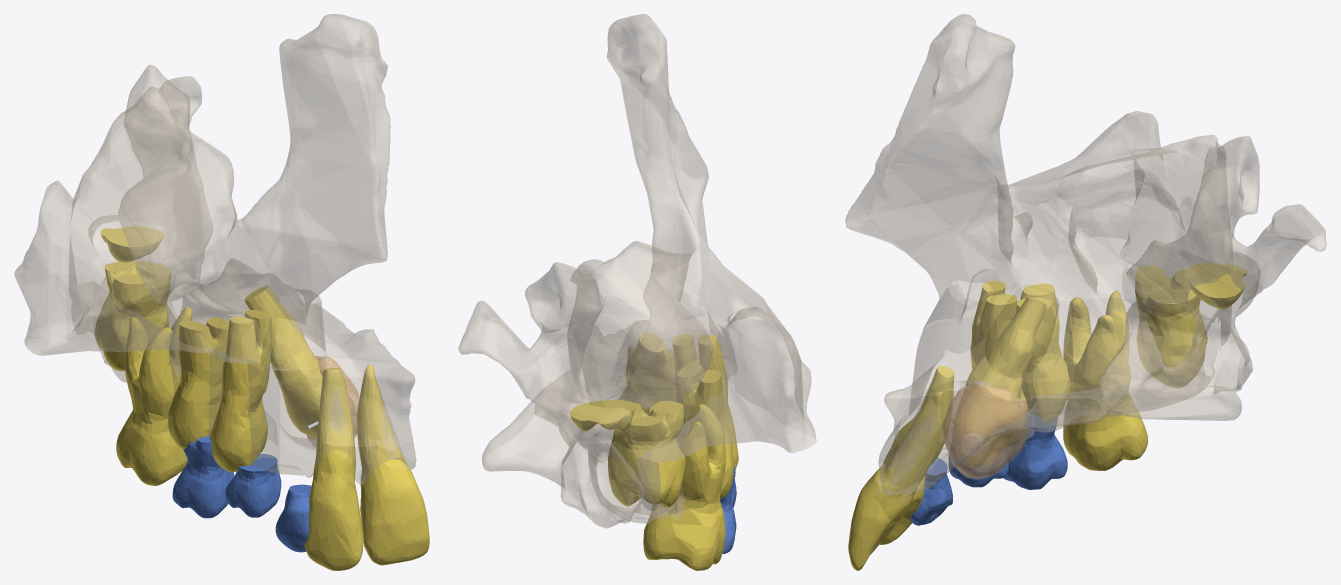
Rendered from ortho-during.glb.
3 views of the same model, side by side, from view 1: azimuth 30°, elevation 25°; view 2: azimuth 150°, elevation 25°; view 3: azimuth 270°, elevation 25° (orthographic). The views are drawn at different scales.
Visible parts, largest first — view 1: bone, teeth, baby-teeth, canine, baby-canine, removed bone; view 2: bone, teeth, canine, baby-teeth; view 3: bone, teeth, canine, removed bone, baby-teeth, baby-canine.
Boxes of the visible parts, x1=… form: bone: x1=14, y1=14, x2=416, y2=484; teeth: x1=94, y1=226, x2=429, y2=570; baby-teeth: x1=172, y1=435, x2=281, y2=518; canine: x1=244, y1=285, x2=349, y2=437; baby-canine: x1=275, y1=484, x2=311, y2=552; removed bone: x1=307, y1=356, x2=359, y2=447; bone: x1=458, y1=14, x2=816, y2=528; teeth: x1=570, y1=333, x2=738, y2=570; canine: x1=619, y1=332, x2=676, y2=413; baby-teeth: x1=720, y1=466, x2=736, y2=553; bone: x1=845, y1=14, x2=1326, y2=503; teeth: x1=848, y1=262, x2=1247, y2=570; canine: x1=954, y1=297, x2=1046, y2=465; removed bone: x1=942, y1=381, x2=1028, y2=477; baby-teeth: x1=948, y1=413, x2=1067, y2=489; baby-canine: x1=910, y1=457, x2=952, y2=525.
Bounding box in the file's own units: 0.0451 × 0.0795 × 0.0637.
